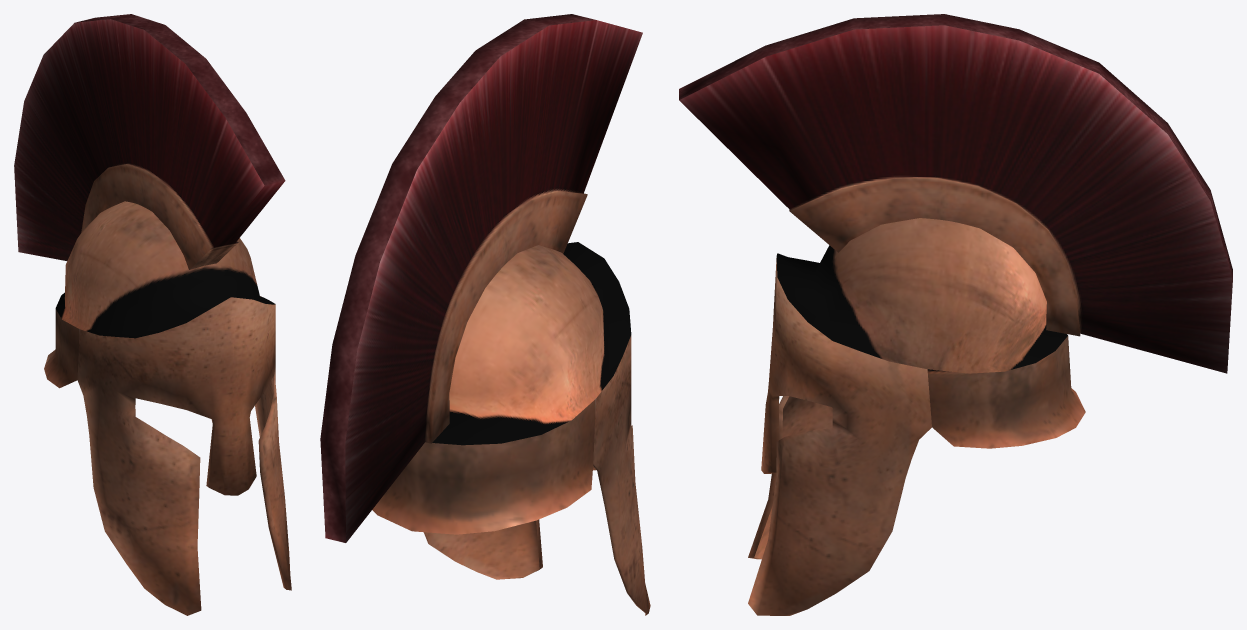
Rendered from spartan_helmet.fbx.
3 renders of one model, left to right at view 1: azimuth 30°, elevation 25°; view 2: azimuth 150°, elevation 25°; view 3: azimuth 270°, elevation 25°, orthographic. The views are drawn at different scales.
Parts seen in each view (by area): view 1: helmet, crest; view 2: crest, helmet; view 3: crest, helmet.
Boxes of the visible parts, bbox=[...] form: helmet: bbox=[44, 201, 291, 615]; crest: bbox=[14, 14, 285, 269]; crest: bbox=[320, 14, 642, 542]; helmet: bbox=[372, 242, 650, 615]; crest: bbox=[679, 14, 1232, 373]; helmet: bbox=[748, 218, 1085, 615].
Size of the model in its own units: 0.00196 by 0.00528 by 0.00467.
